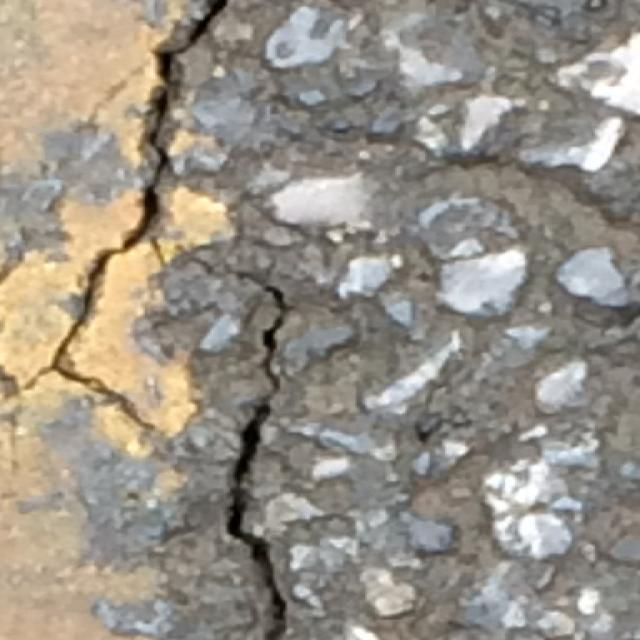Network: (26, 9, 300, 640)
